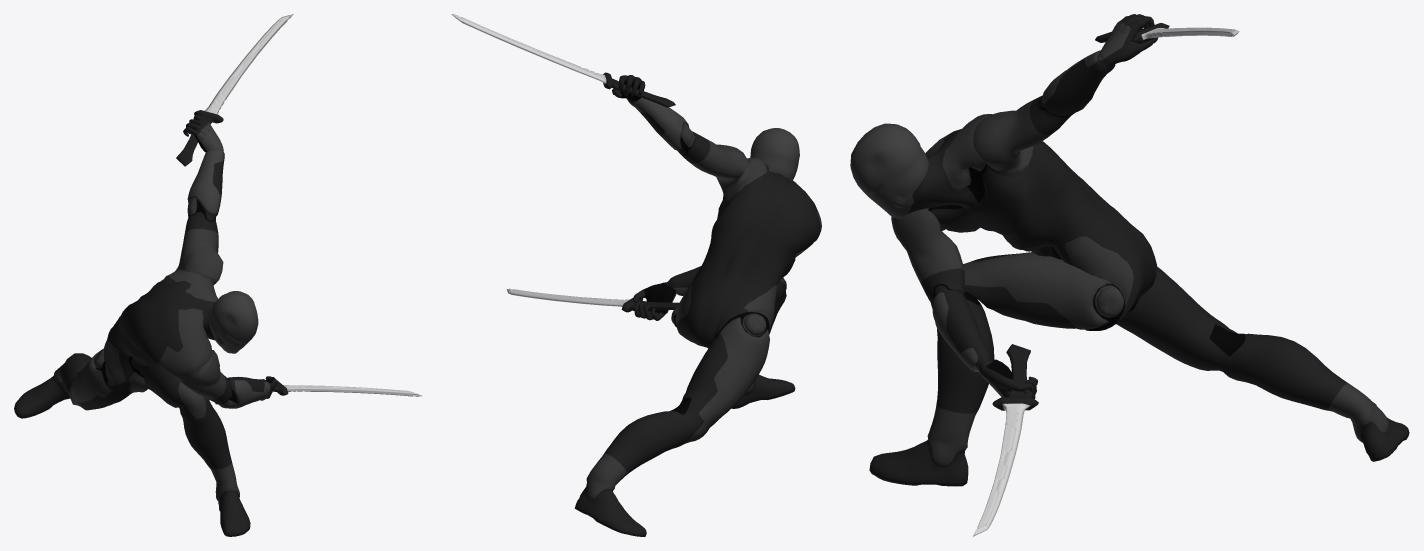
3 renders of one model, left to right at view 1: azimuth 30°, elevation 25°; view 2: azimuth 150°, elevation 25°; view 3: azimuth 270°, elevation 25°, orthographic. The views are drawn at different scales.
Parts seen in each view (by area): view 1: Cyborg_Ninja_Killer, Sword_l, Sword_l001; view 2: Cyborg_Ninja_Killer, Sword_l, Sword_l001; view 3: Cyborg_Ninja_Killer, Sword_l001, Sword_l.
Part boxes in pixels (box(x1,y1,x2,y2)): Cyborg_Ninja_Killer: box(14, 115, 277, 536); Sword_l: box(176, 14, 293, 166); Sword_l001: box(273, 380, 422, 396); Cyborg_Ninja_Killer: box(574, 75, 821, 536); Sword_l: box(451, 14, 675, 107); Sword_l001: box(506, 288, 679, 312); Cyborg_Ninja_Killer: box(850, 14, 1409, 486); Sword_l001: box(973, 344, 1038, 536); Sword_l: box(1095, 23, 1239, 43).
Size of the model in its own units: 131 by 171 by 154.
2 materials, 2 textured.
